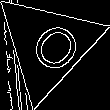O_SW: (15, 12, 81, 79)
